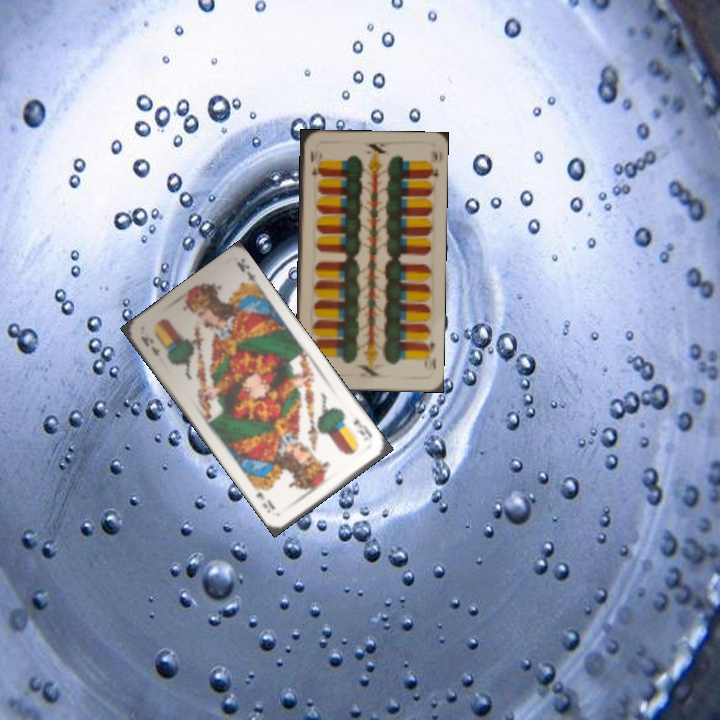E10: (420, 336, 438, 372), (306, 146, 322, 185)
EK: (137, 332, 163, 359), (349, 414, 375, 440)
